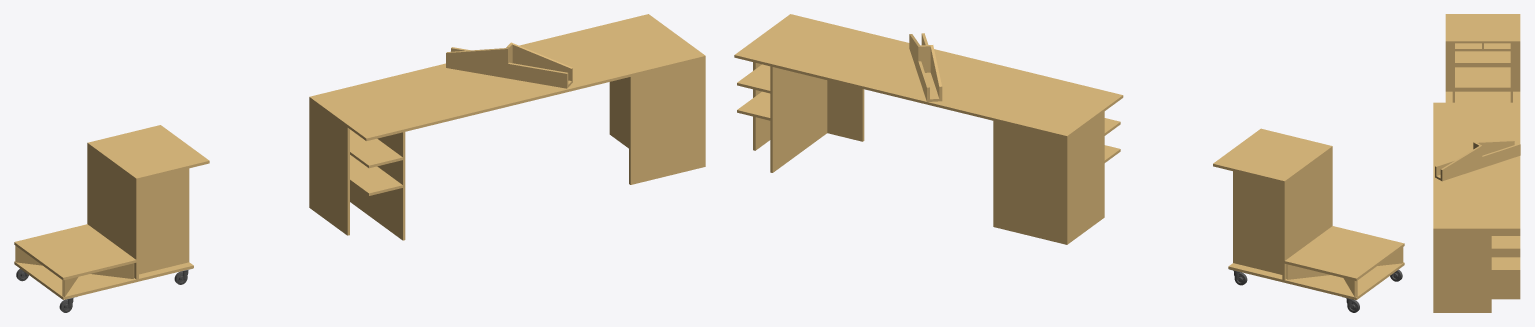
Rendered from osp-desk.obj.
The picture shows the model from 3 angles, left to right: view 1: azimuth 30°, elevation 25°; view 2: azimuth 150°, elevation 25°; view 3: azimuth 270°, elevation 25°; orthographic projection. The views are drawn at different scales.
Visible parts, largest first — view 1: Mesh19 Component_132_1 Component_213_1 Model, Mesh11 Component_139_1 Component_136_1 Component_213_1 Model, Mesh35 Component_163_1 Component_212_1 Model, Mesh13 Component_138_2 Component_136_2 Component_213_1 Model, Mesh23 Component_161_1 Component_212_1 Model, Mesh24 Component_162_2 Component_212_1 Model, Mesh22 Component_162_1 Component_212_1 Model, Mesh16 Component_140_2 Component_136_2 Component_213_1 Model, Mesh21 Component_159_1 Component_212_1 Model, Mesh1 Component_152_1 Component_151_1 Model, Mesh10 Component_140_1 Component_136_1 Component_213_1 Model, Mesh15 Component_137_4 Component_136_2 Component_213_1 Model (+3 smaller); view 2: Mesh19 Component_132_1 Component_213_1 Model, Mesh17 Component_139_2 Component_136_2 Component_213_1 Model, Mesh10 Component_140_1 Component_136_1 Component_213_1 Model, Mesh38 Component_163_2 Component_212_1 Model, Mesh23 Component_161_1 Component_212_1 Model, Mesh13 Component_138_2 Component_136_2 Component_213_1 Model, Mesh22 Component_162_1 Component_212_1 Model, Mesh24 Component_162_2 Component_212_1 Model, Mesh21 Component_159_1 Component_212_1 Model, Mesh11 Component_139_1 Component_136_1 Component_213_1 Model, Mesh8 Component_137_1 Component_136_1 Component_213_1 Model, Mesh9 Component_137_2 Component_136_1 Component_213_1 Model (+1 smaller); view 3: Mesh19 Component_132_1 Component_213_1 Model, Mesh7 Component_138_1 Component_136_1 Component_213_1 Model, Mesh24 Component_162_2 Component_212_1 Model, Mesh26 Component_166_1 Component_212_1 Model, Mesh10 Component_140_1 Component_136_1 Component_213_1 Model, Mesh23 Component_161_1 Component_212_1 Model, Mesh21 Component_159_1 Component_212_1 Model, Mesh5 Component_211_1 Component_151_1 Model, Mesh36 Component_166_2 Component_212_1 Model, Mesh4 Component_155_1 Component_151_1 Model, Mesh42 Component_166_3 Component_212_1 Model, Mesh8 Component_137_1 Component_136_1 Component_213_1 Model (+6 smaller).
Part boxes in pixels (<box>): Mesh19 Component_132_1 Component_213_1 Model: <box>309,14,705,141</box>; Mesh11 Component_139_1 Component_136_1 Component_213_1 Model: <box>629,58,705,184</box>; Mesh35 Component_163_1 Component_212_1 Model: <box>139,168,189,274</box>; Mesh13 Component_138_2 Component_136_2 Component_213_1 Model: <box>310,101,349,235</box>; Mesh23 Component_161_1 Component_212_1 Model: <box>87,145,138,279</box>; Mesh24 Component_162_2 Component_212_1 Model: <box>87,125,209,181</box>; Mesh22 Component_162_1 Component_212_1 Model: <box>14,224,136,280</box>; Mesh16 Component_140_2 Component_136_2 Component_213_1 Model: <box>350,132,405,240</box>; Mesh21 Component_159_1 Component_212_1 Model: <box>14,261,193,299</box>; Mesh1 Component_152_1 Component_151_1 Model: <box>446,48,508,78</box>; Mesh10 Component_140_1 Component_136_1 Component_213_1 Model: <box>609,77,628,148</box>; Mesh15 Component_137_4 Component_136_2 Component_213_1 Model: <box>350,155,402,195</box>; Mesh19 Component_132_1 Component_213_1 Model: <box>734,14,1123,138</box>; Mesh17 Component_139_2 Component_136_2 Component_213_1 Model: <box>993,121,1068,244</box>; Mesh10 Component_140_1 Component_136_1 Component_213_1 Model: <box>770,66,827,172</box>; Mesh38 Component_163_2 Component_212_1 Model: <box>1233,171,1282,274</box>; Mesh23 Component_161_1 Component_212_1 Model: <box>1282,149,1332,279</box>; Mesh13 Component_138_2 Component_136_2 Component_213_1 Model: <box>1068,111,1104,243</box>; Mesh22 Component_162_1 Component_212_1 Model: <box>1284,226,1404,280</box>; Mesh24 Component_162_2 Component_212_1 Model: <box>1213,128,1332,183</box>; Mesh21 Component_159_1 Component_212_1 Model: <box>1228,262,1404,300</box>; Mesh11 Component_139_1 Component_136_1 Component_213_1 Model: <box>827,80,864,141</box>; Mesh8 Component_137_1 Component_136_1 Component_213_1 Model: <box>737,64,770,93</box>; Mesh9 Component_137_2 Component_136_1 Component_213_1 Model: <box>737,91,770,120</box>; Mesh19 Component_132_1 Component_213_1 Model: <box>1433,102,1520,230</box>; Mesh7 Component_138_1 Component_136_1 Component_213_1 Model: <box>1435,230,1491,312</box>; Mesh24 Component_162_2 Component_212_1 Model: <box>1445,14,1520,43</box>; Mesh26 Component_166_1 Component_212_1 Model: <box>1455,67,1510,89</box>; Mesh10 Component_140_1 Component_136_1 Component_213_1 Model: <box>1491,230,1520,299</box>; Mesh23 Component_161_1 Component_212_1 Model: <box>1445,43,1520,91</box>; Mesh21 Component_159_1 Component_212_1 Model: <box>1445,91,1520,102</box>; Mesh5 Component_211_1 Component_151_1 Model: <box>1440,145,1482,181</box>; Mesh36 Component_166_2 Component_212_1 Model: <box>1455,51,1510,64</box>; Mesh4 Component_155_1 Component_151_1 Model: <box>1482,143,1520,167</box>; Mesh42 Component_166_3 Component_212_1 Model: <box>1455,43,1510,51</box>; Mesh8 Component_137_1 Component_136_1 Component_213_1 Model: <box>1491,236,1520,250</box>.
Bounding box in the file's own units: 4487 × 950 × 702.
